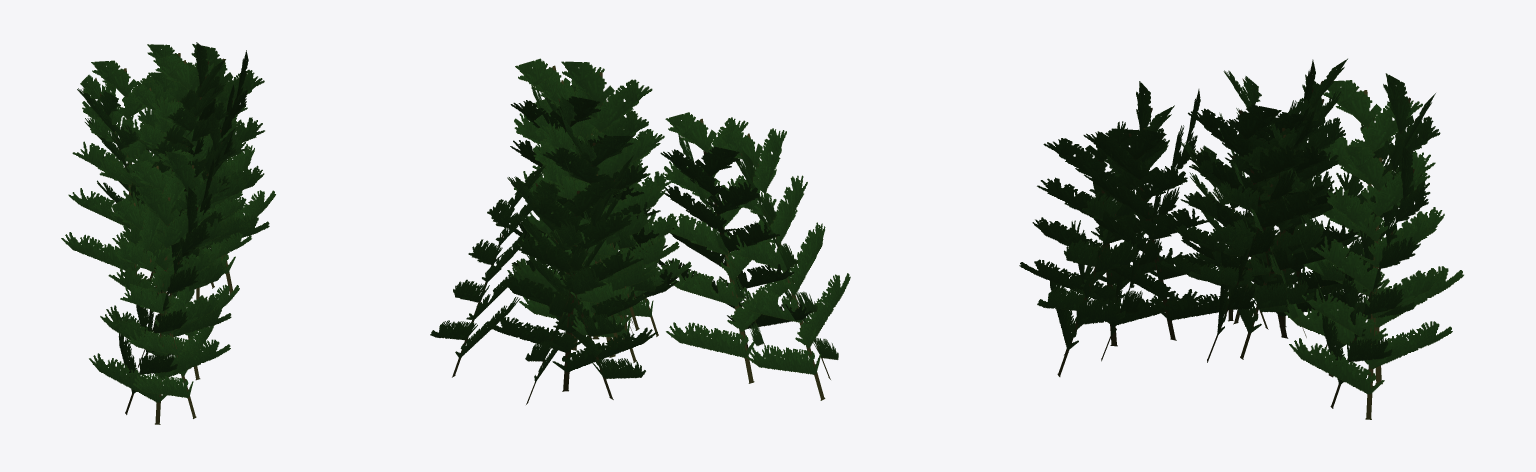
Rendered from SM_Art_Veg_Gorse_0.gltf.
3 views of the same model, side by side, from view 1: azimuth 30°, elevation 25°; view 2: azimuth 150°, elevation 25°; view 3: azimuth 270°, elevation 25° (orthographic). The views are drawn at different scales.
Parts seen in each view (by area): view 1: SM_Art_Veg_Gorse_0; view 2: SM_Art_Veg_Gorse_0; view 3: SM_Art_Veg_Gorse_0.
Boxes of the visible parts, left/top/right/bottom form: SM_Art_Veg_Gorse_0: left=61, top=42, right=275, bottom=424; SM_Art_Veg_Gorse_0: left=430, top=58, right=850, bottom=404; SM_Art_Veg_Gorse_0: left=1019, top=58, right=1463, bottom=419.
Size of the model in its own units: 1.66 by 1.33 by 1.9.
1 material, 1 textured.
